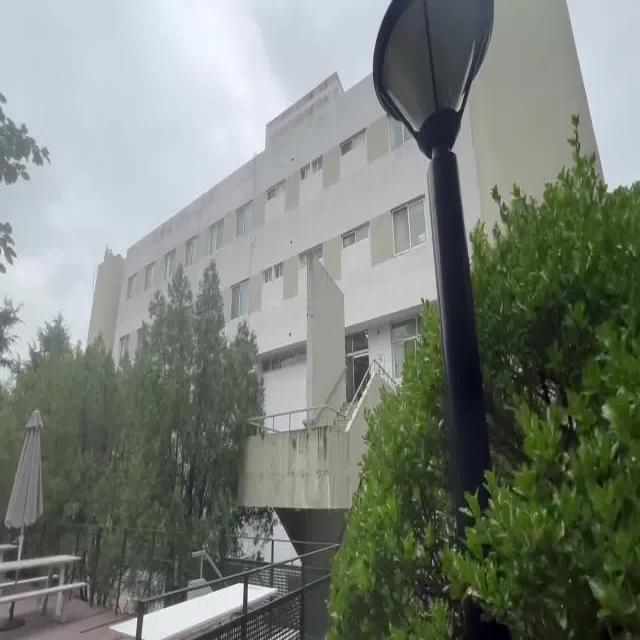building: (242, 99, 378, 492)
